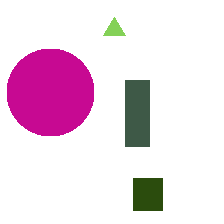circle: (7, 49, 93, 135)
rectangle: (125, 80, 149, 146), (133, 178, 162, 210)
triangle: (103, 17, 125, 35)
